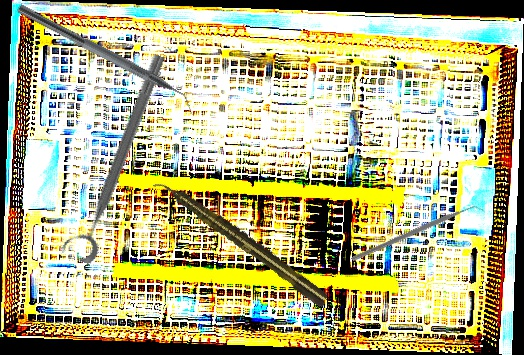Chopper: (9, 3, 204, 118), (351, 163, 485, 307)
Fixation Ring: (58, 47, 172, 266)
Handpiece: (151, 172, 332, 310)
